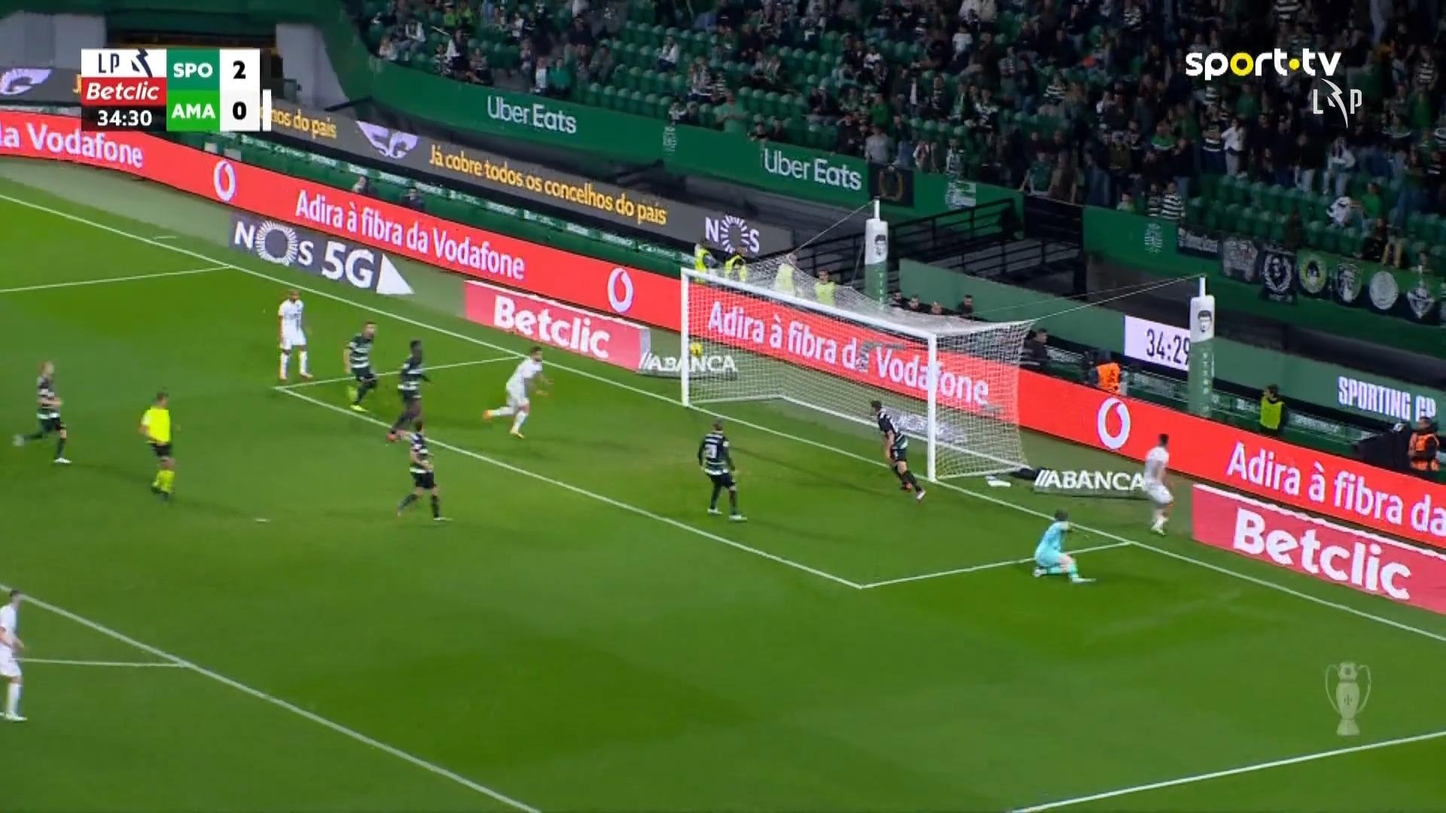ball: (688, 341, 704, 357)
goalkeeper: (1032, 508, 1097, 583)
player: (481, 345, 554, 440), (385, 425, 452, 522), (11, 360, 72, 464), (868, 397, 926, 502), (696, 419, 747, 522), (387, 338, 432, 440), (0, 588, 27, 721), (276, 288, 313, 382), (1141, 431, 1174, 535), (342, 320, 379, 412)
referee: (138, 389, 178, 501), (1257, 383, 1289, 437)
